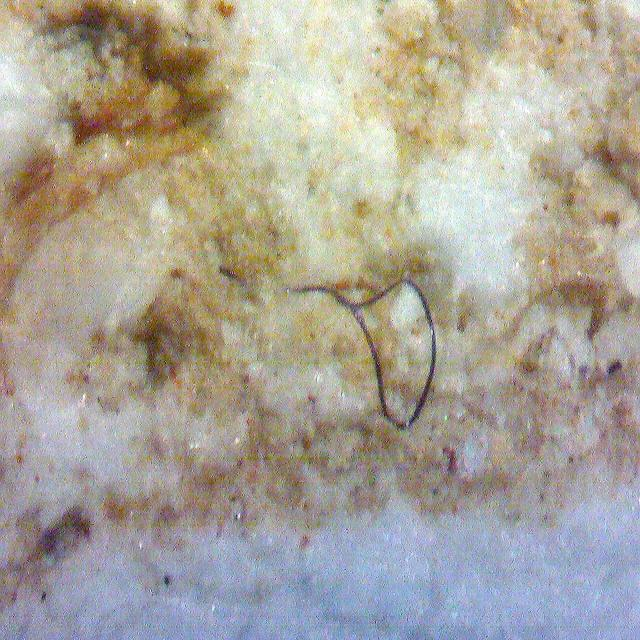microplastic: (285, 278, 437, 429)
